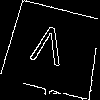V: (28, 23, 67, 76)
